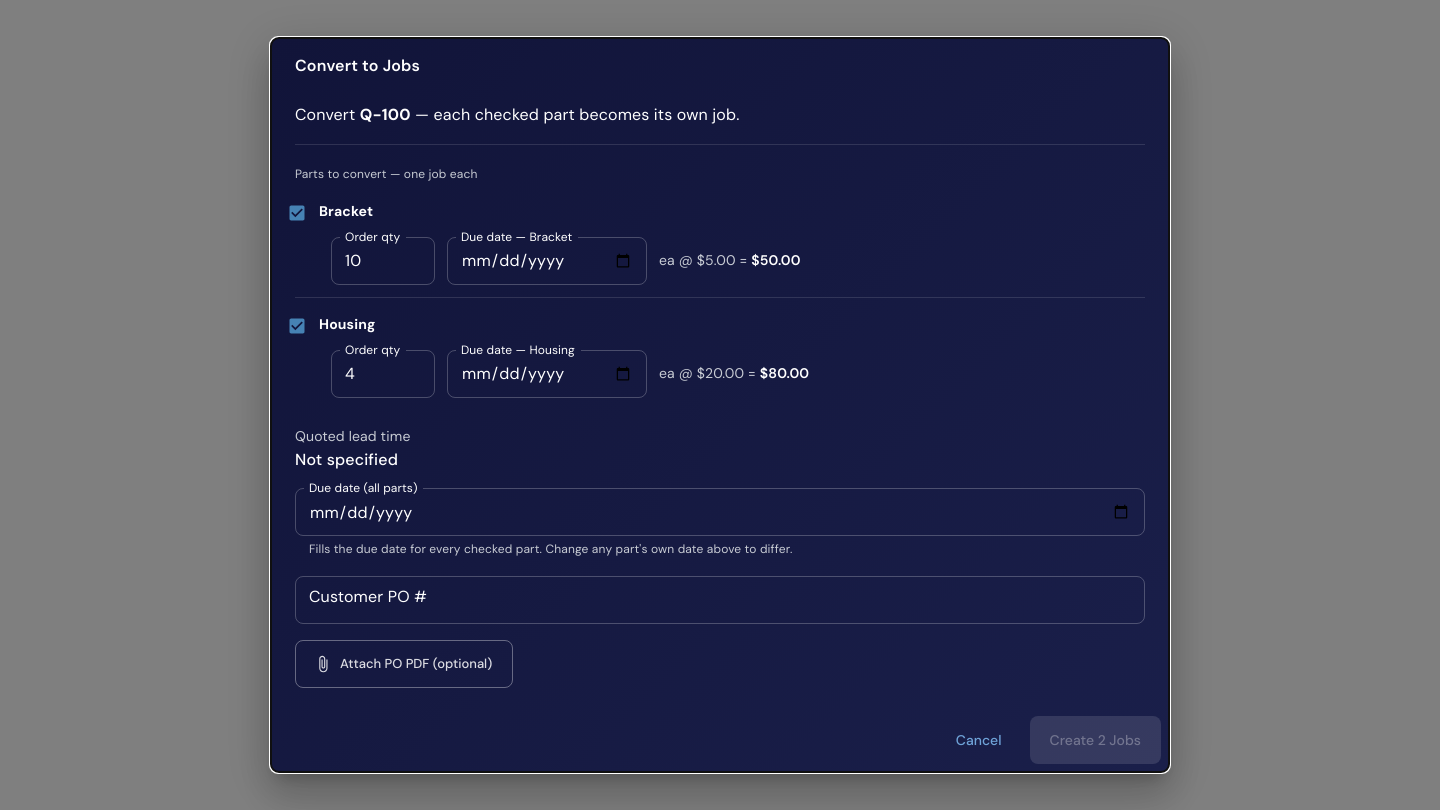
it: ConvertToJobModal — one job per checked part › shows a partial failure verbatim and does NOT navigate, even at one job
Expected: the field labelled "Customer PO #" is empty, [295, 580, 1145, 620]
Type "2030-01-01" into the date field labelled "Due date (all parts)" at point(720, 512), box [295, 492, 1145, 532]
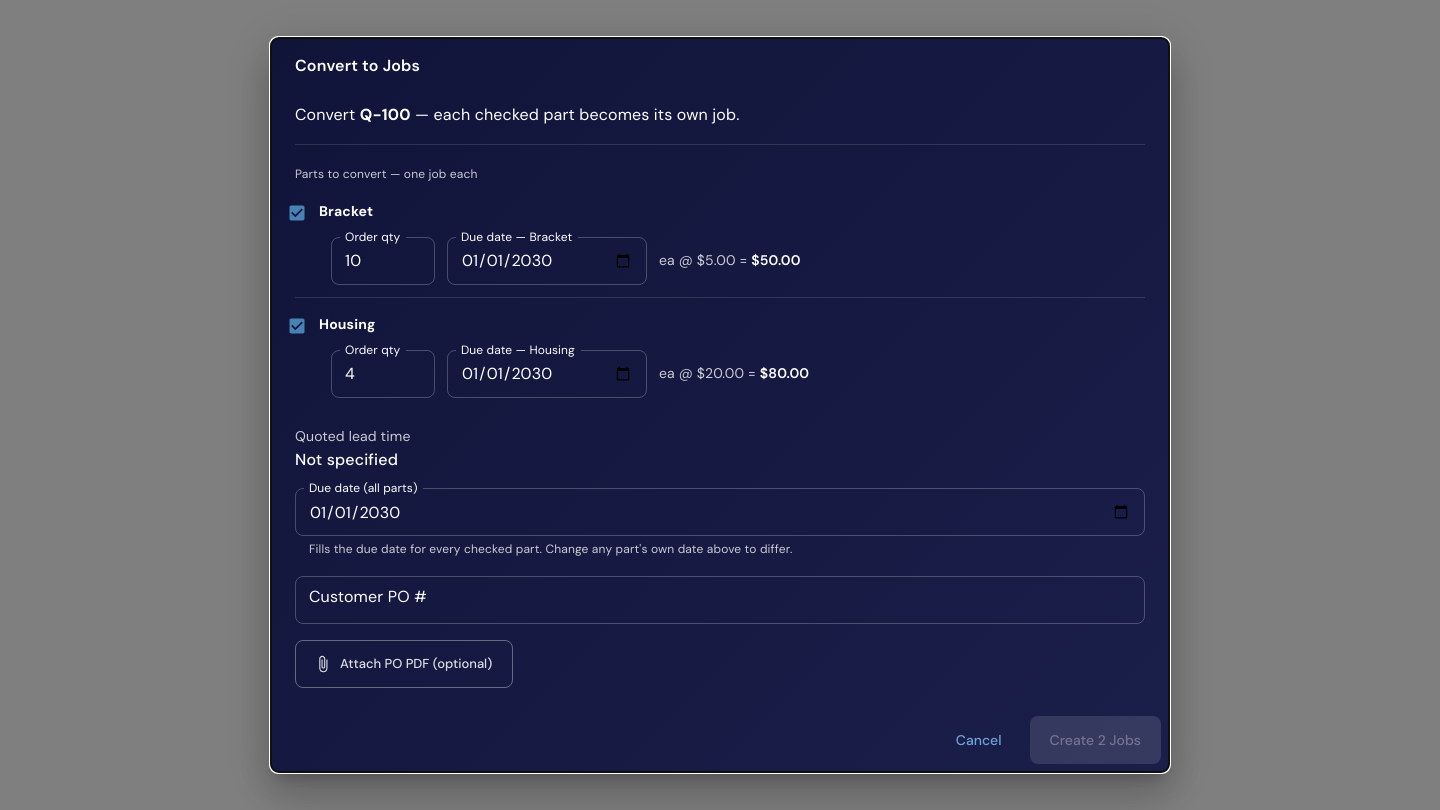
Type "PO-1" into the field labelled "Customer PO #" at point(720, 600), box [295, 580, 1145, 620]
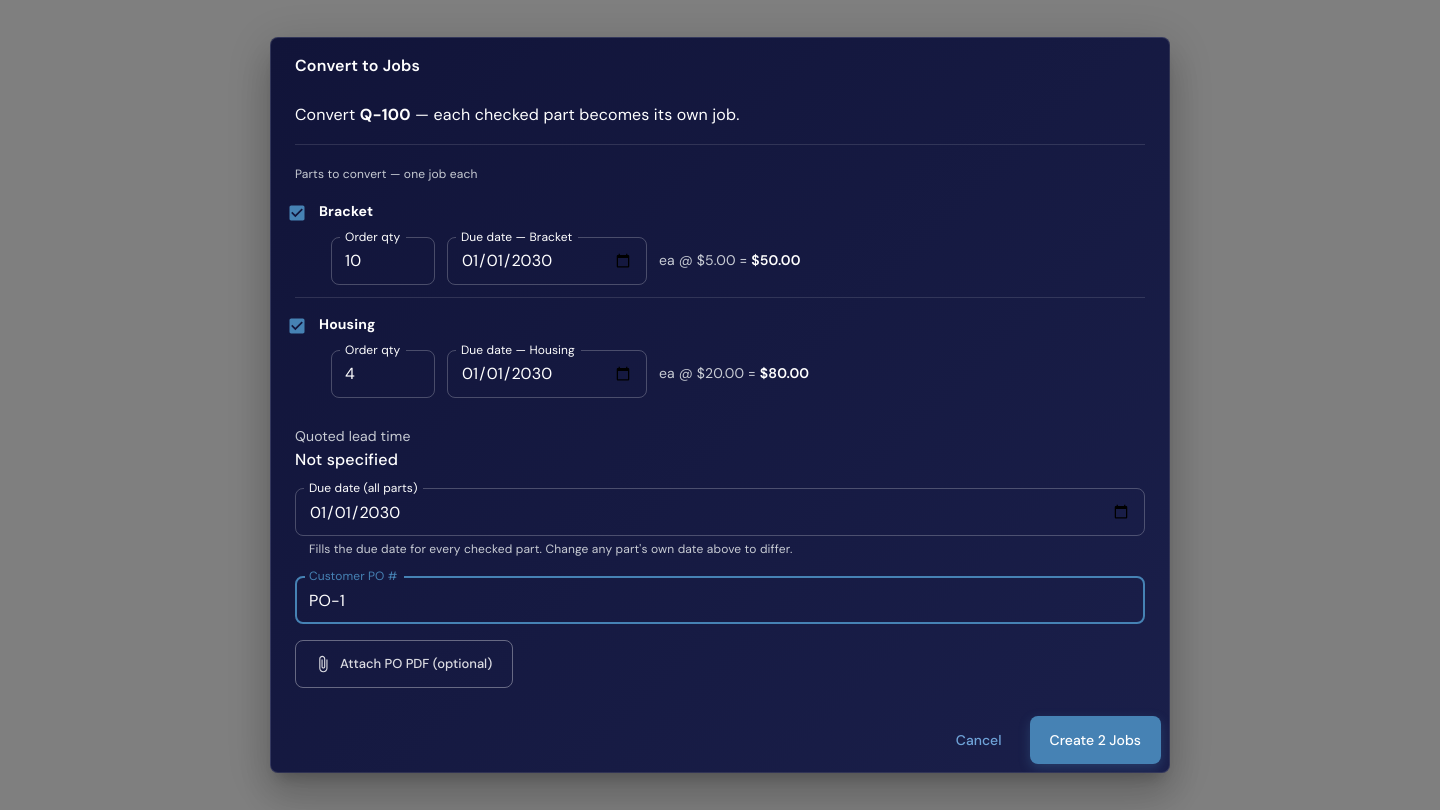
Click the button "Create 2 Jobs" at point(1095, 740), box [1030, 716, 1161, 764]
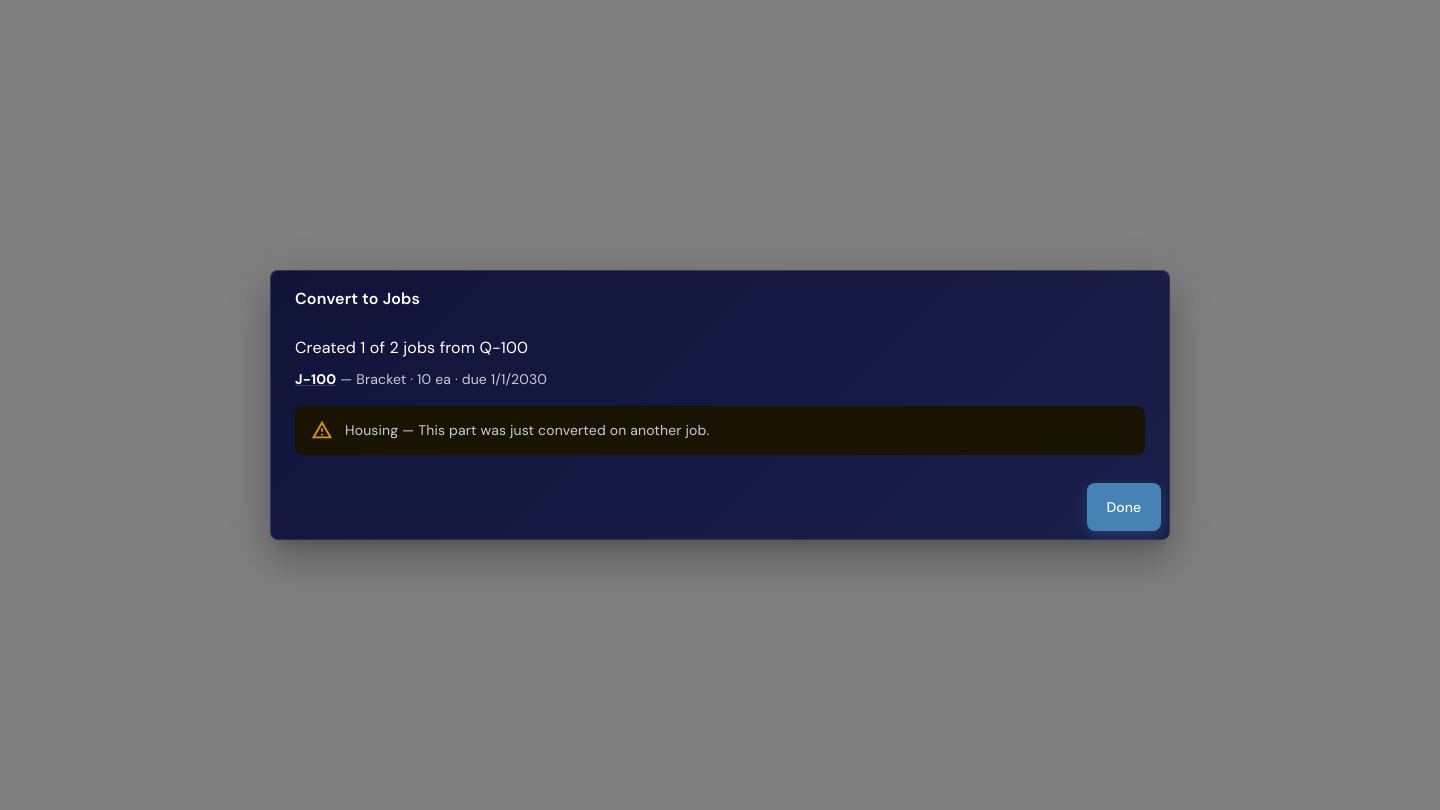
Expected: the text "Created 1 of 2 jobs from Q-100" is shown, [295, 337, 528, 358]
Expected: the text "Housing — This part was just converted on another job." is shown, [345, 420, 709, 441]
